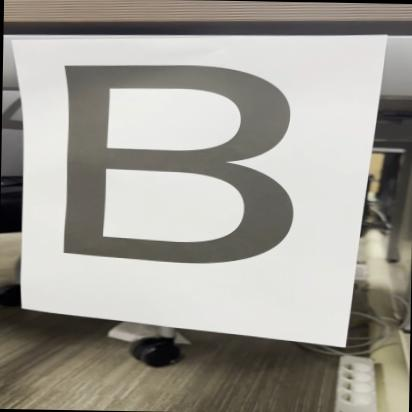seat: (44, 52, 310, 275)
